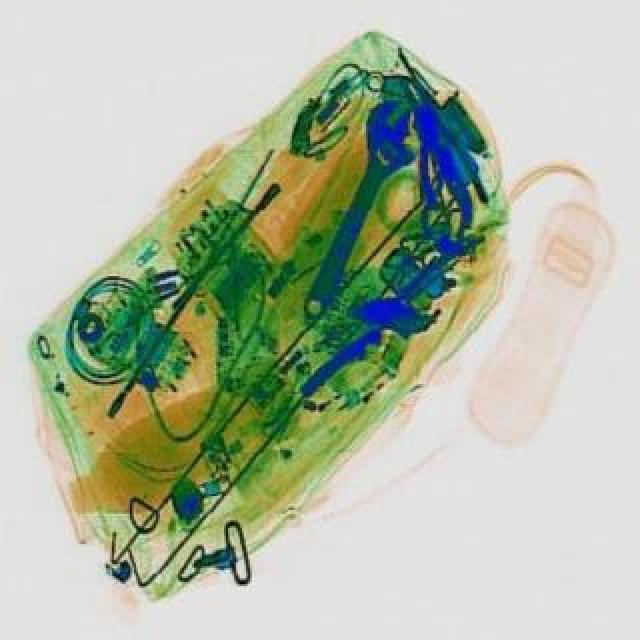scissors: (278, 96, 440, 334)
wrench: (400, 100, 480, 240)
